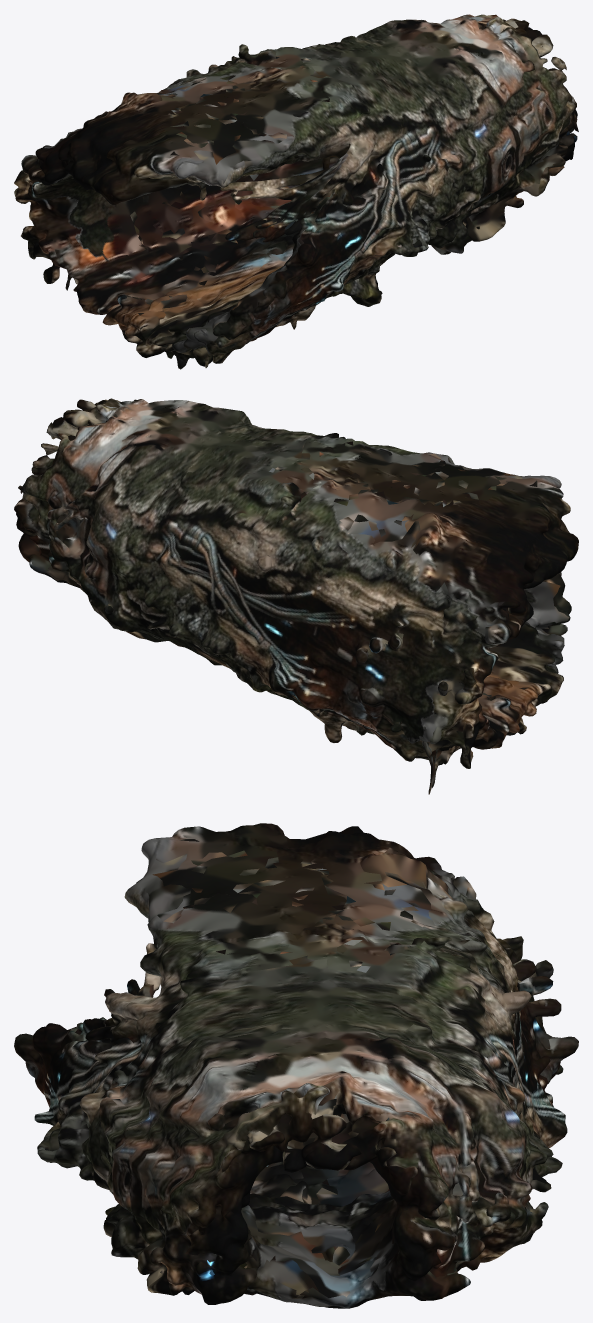
File: cyber_hollow_log.glb
3 views of the same model, one above another, from view 1: azimuth 30°, elevation 25°; view 2: azimuth 150°, elevation 25°; view 3: azimuth 270°, elevation 25° (orthographic). The views are drawn at different scales.
Visible parts, largest first — view 1: geometry_0; view 2: geometry_0; view 3: geometry_0.
Boxes of the visible parts, box(x1,y1,x2,y2) form: geometry_0: box(14, 14, 578, 369); geometry_0: box(14, 398, 578, 794); geometry_0: box(14, 823, 578, 1308).
Bounding box in the file's own units: 5.99 × 2.8 × 4.03.
1 material, 1 textured.
